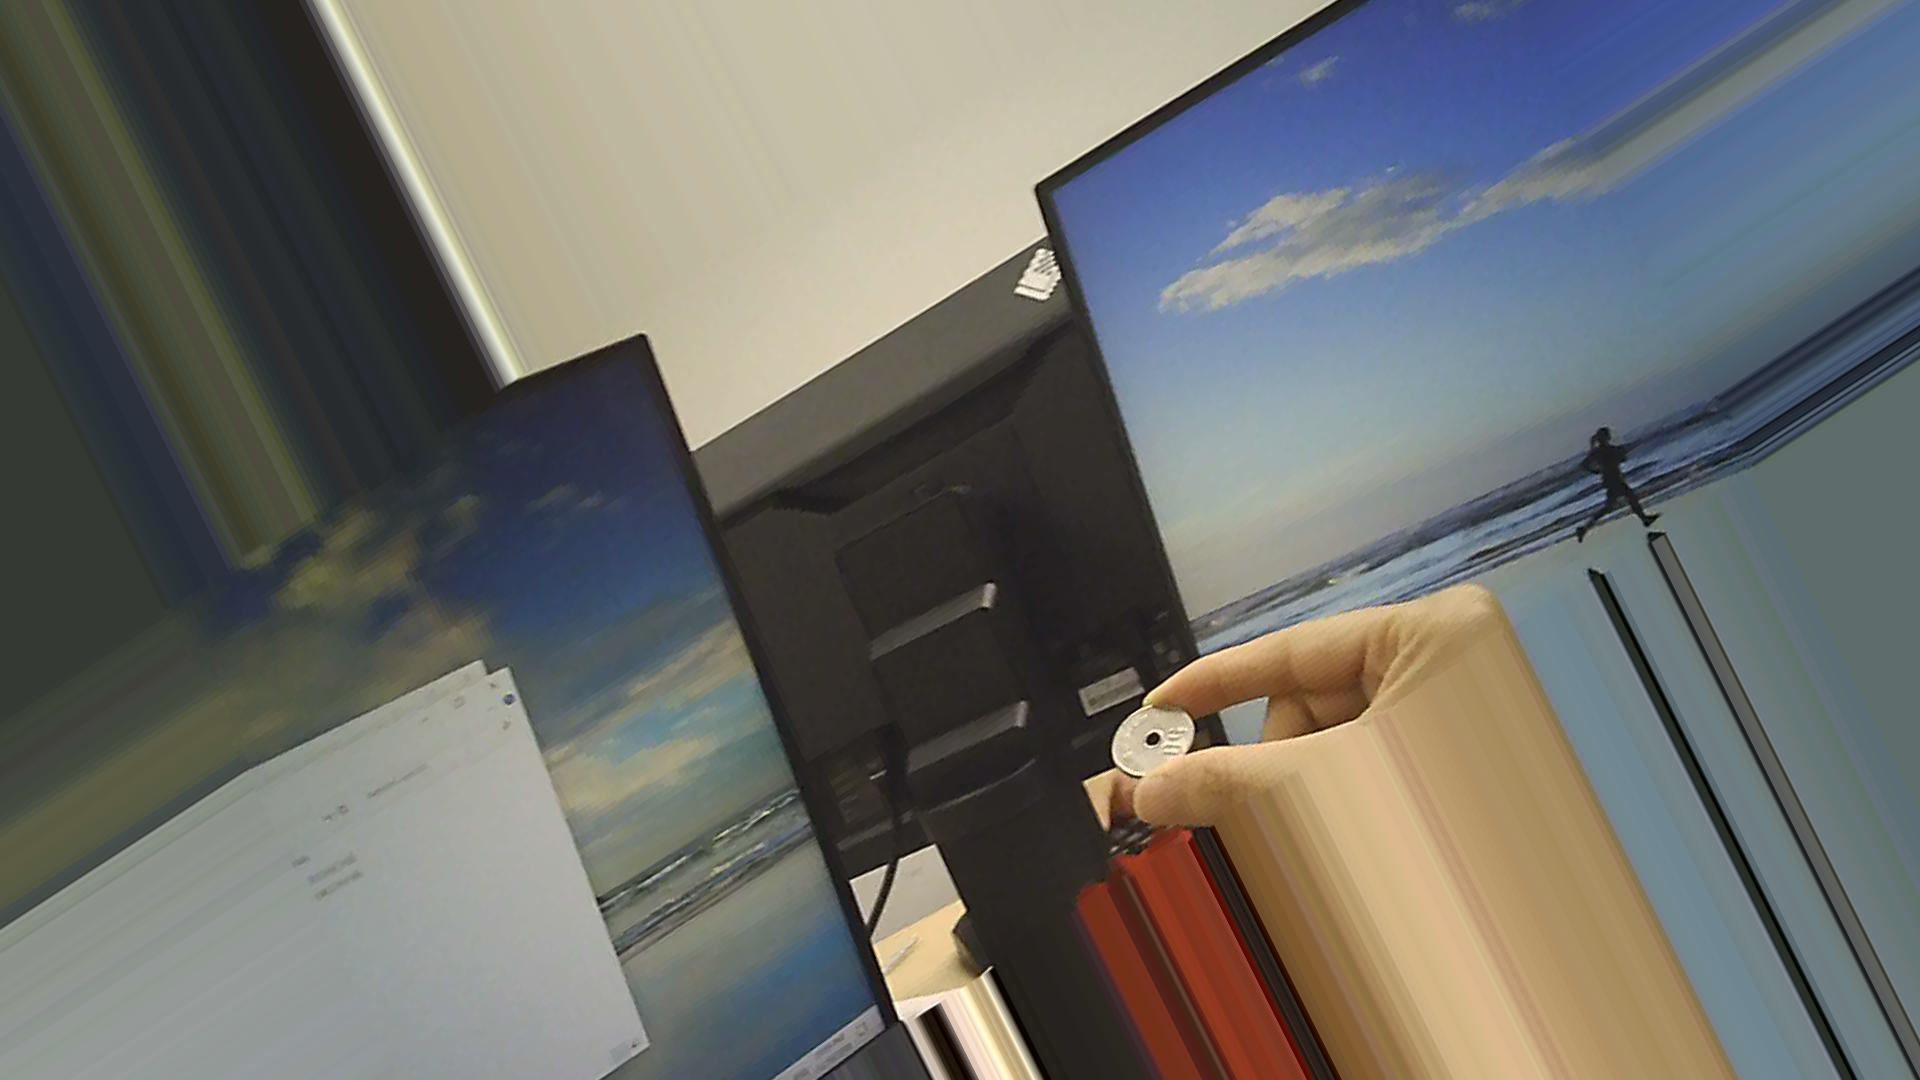50 Yen: (1112, 702, 1215, 796)
